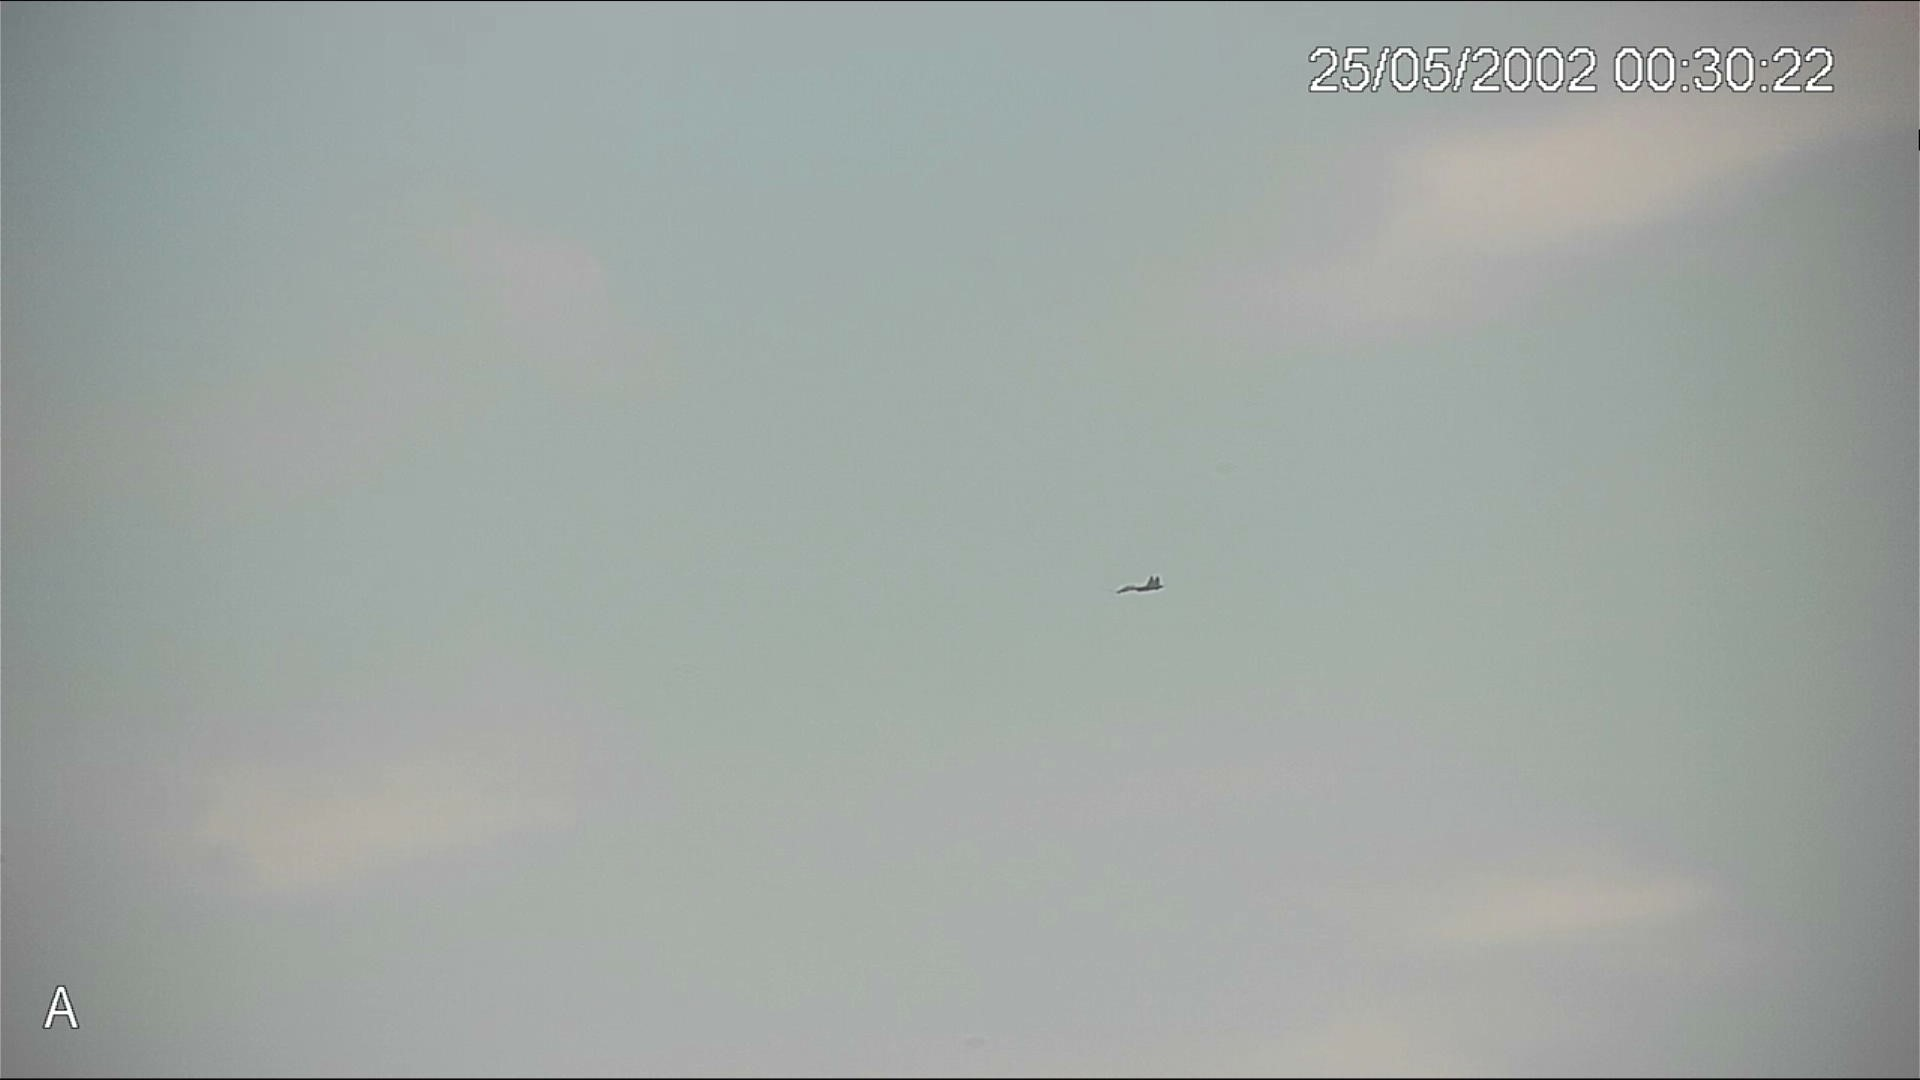SU_30: (1112, 574, 1166, 596)
